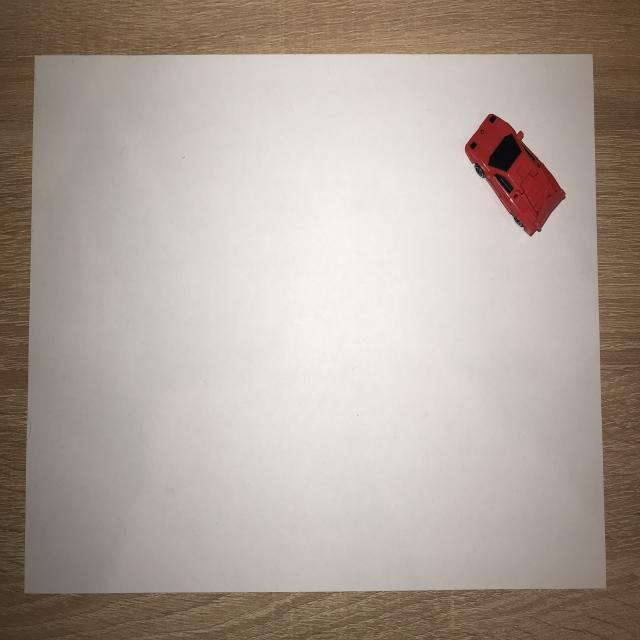car: (461, 101, 572, 242)
